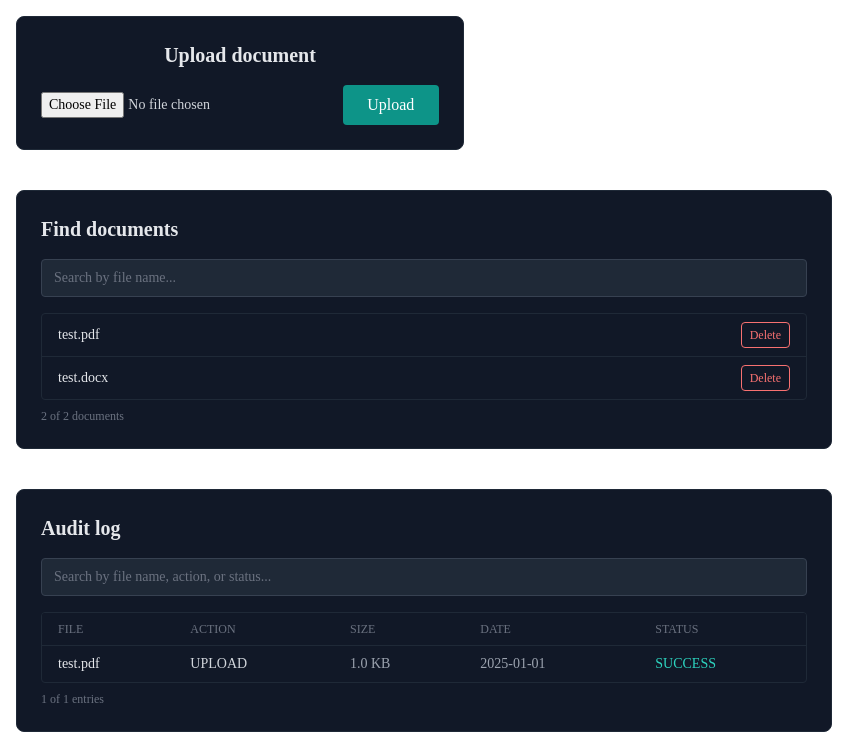
Test: Documents › filters documents
Check: the text "test.pdf" below "Find documents" is shown, box 58,327 -> 100,342
Type "pdf" into the field with placeholder "Search by file name..." at (424, 278), box 41,259 -> 807,297
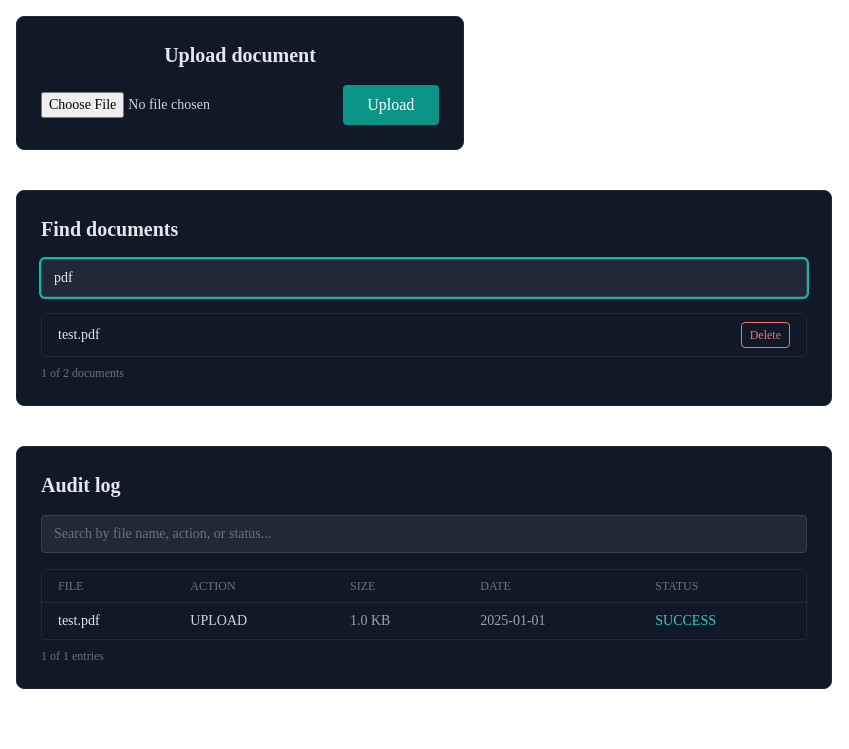
Check: the text "test.pdf" below "Find documents" is shown, box 58,327 -> 100,342
Check: the text "test.docx" is gone
